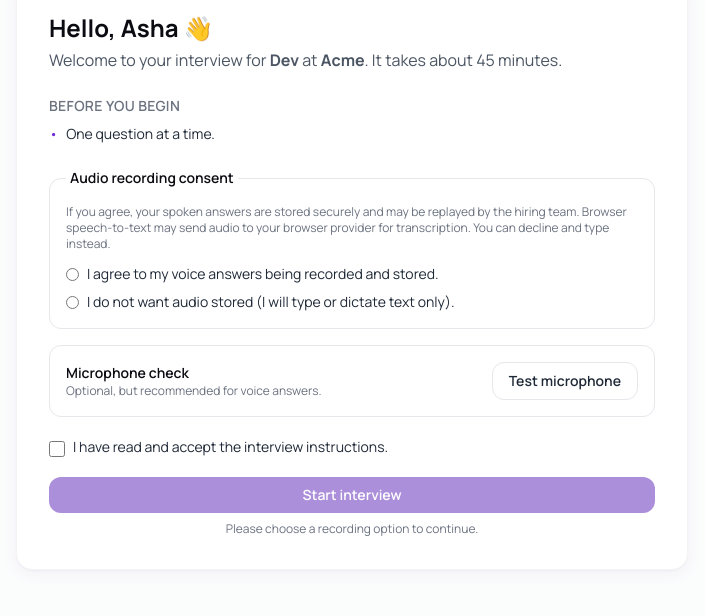
it: candidate welcome screen › shows a clear message when the microphone is unavailable
What coordinates should you click on to do the following:
click the button "Test microphone"
I would click on:
 (565, 381)
Its box is [492,362,638,400].
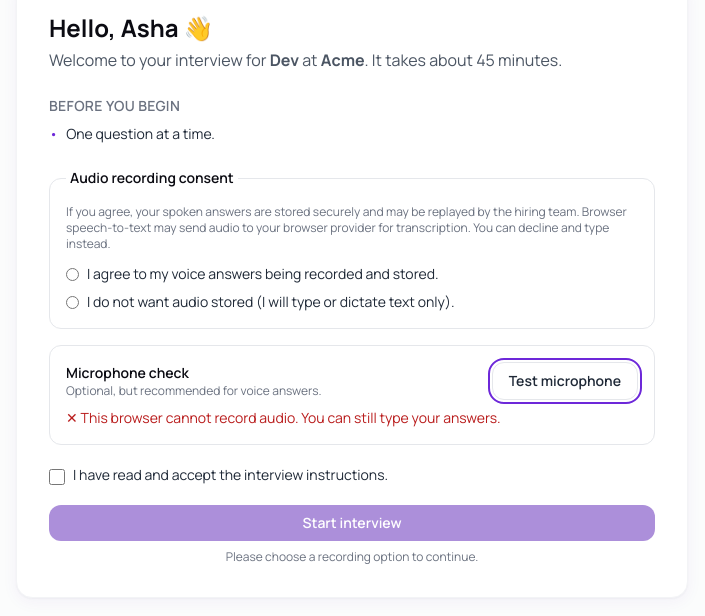
Expected: the message shows "cannot record audio", [80,408,501,427]
